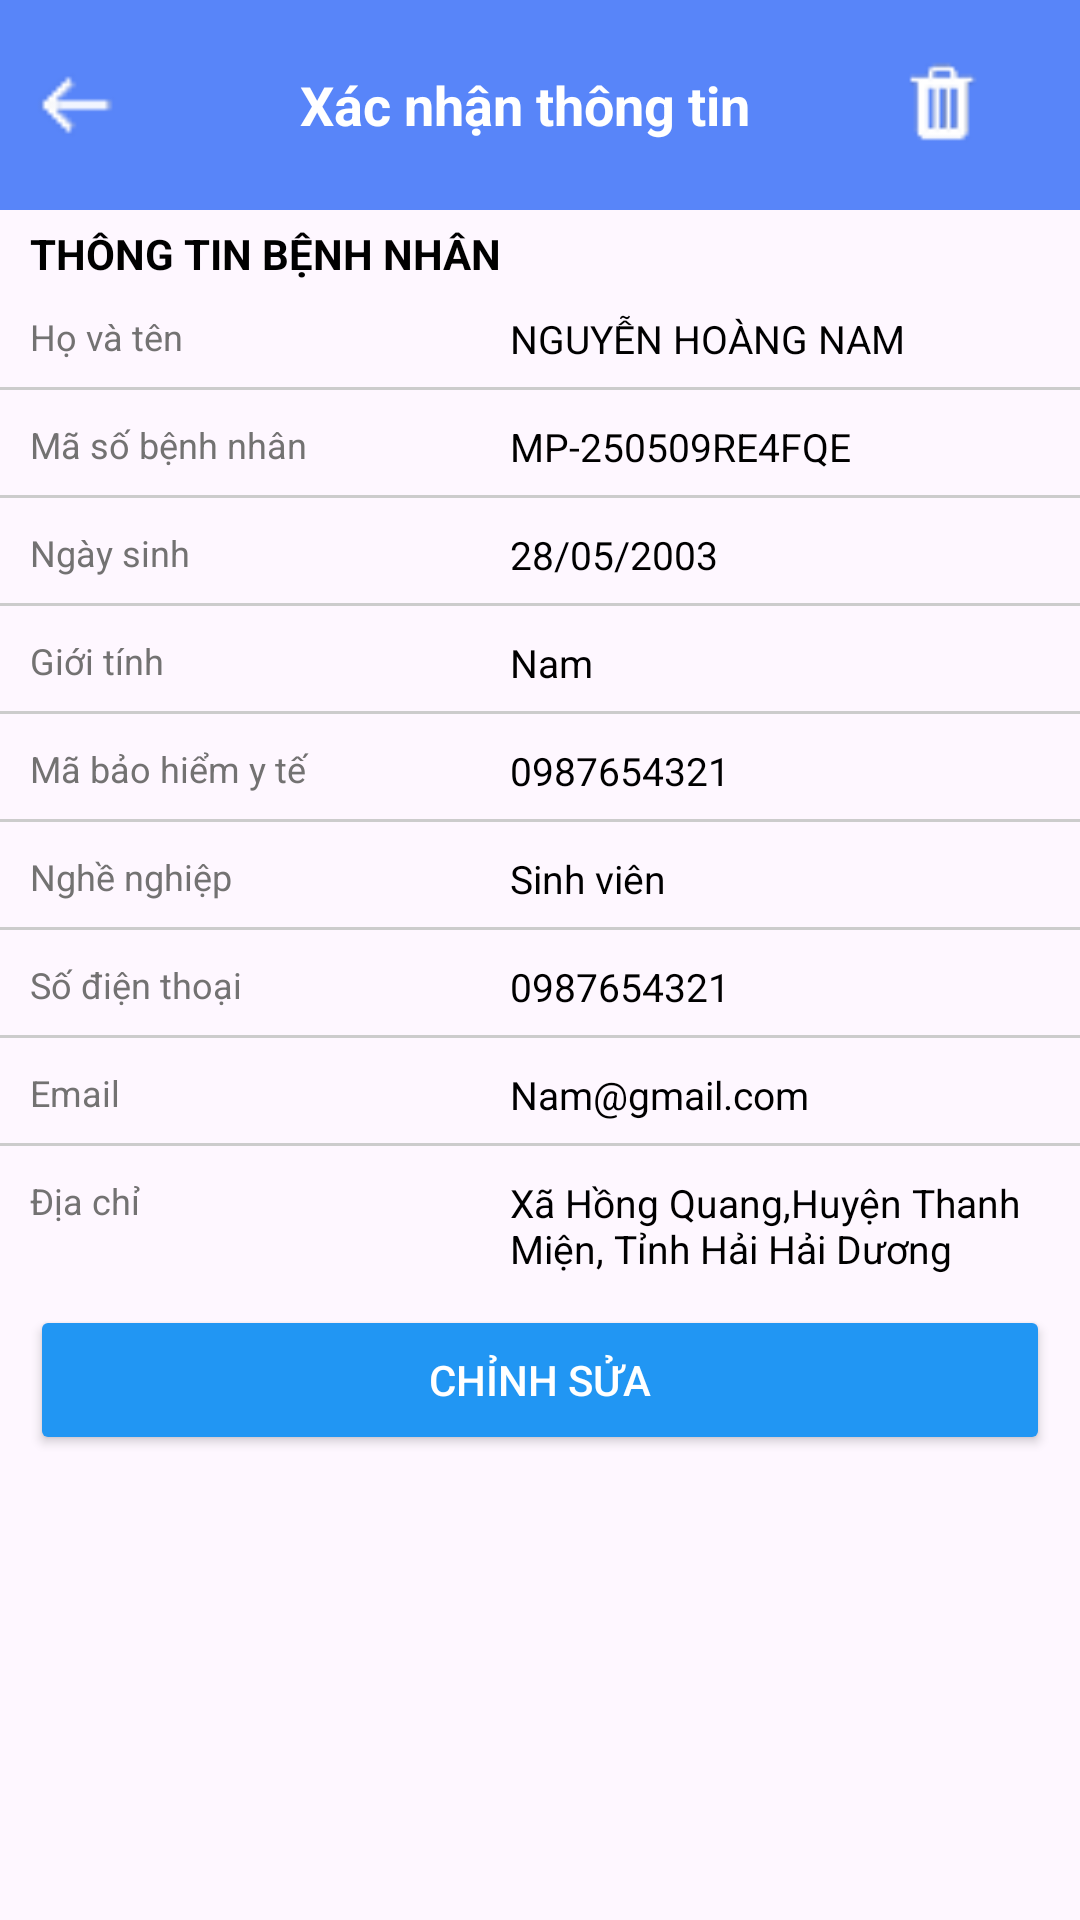

Icon click points for this 1080 x 1920 phone screenshot, format (x=x, y=y):
delete: (x=942, y=102)
left: (x=76, y=105)
